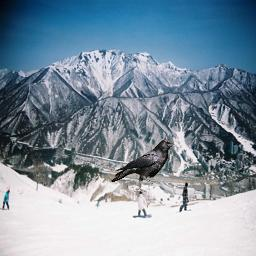Crow: (111, 139, 177, 193)
